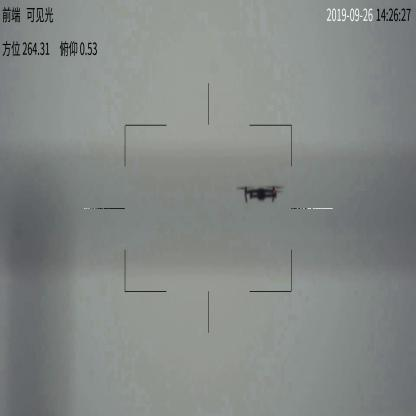uav: (238, 183, 284, 203)
